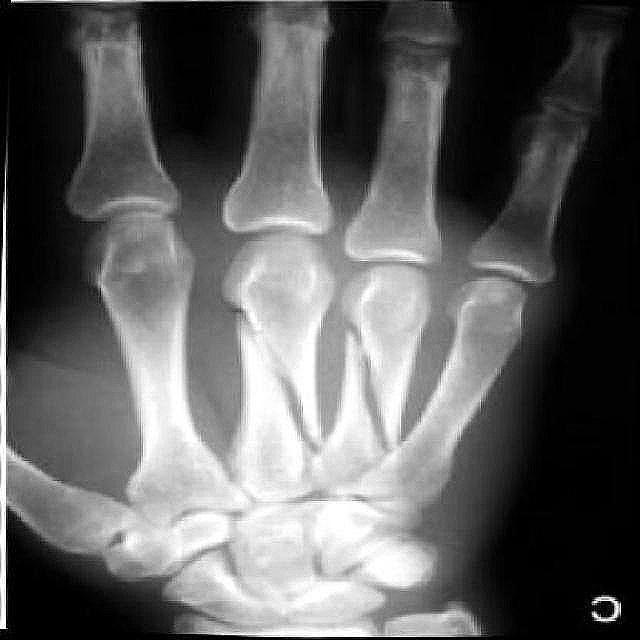bone: (212, 286, 334, 483), (330, 309, 410, 477)
